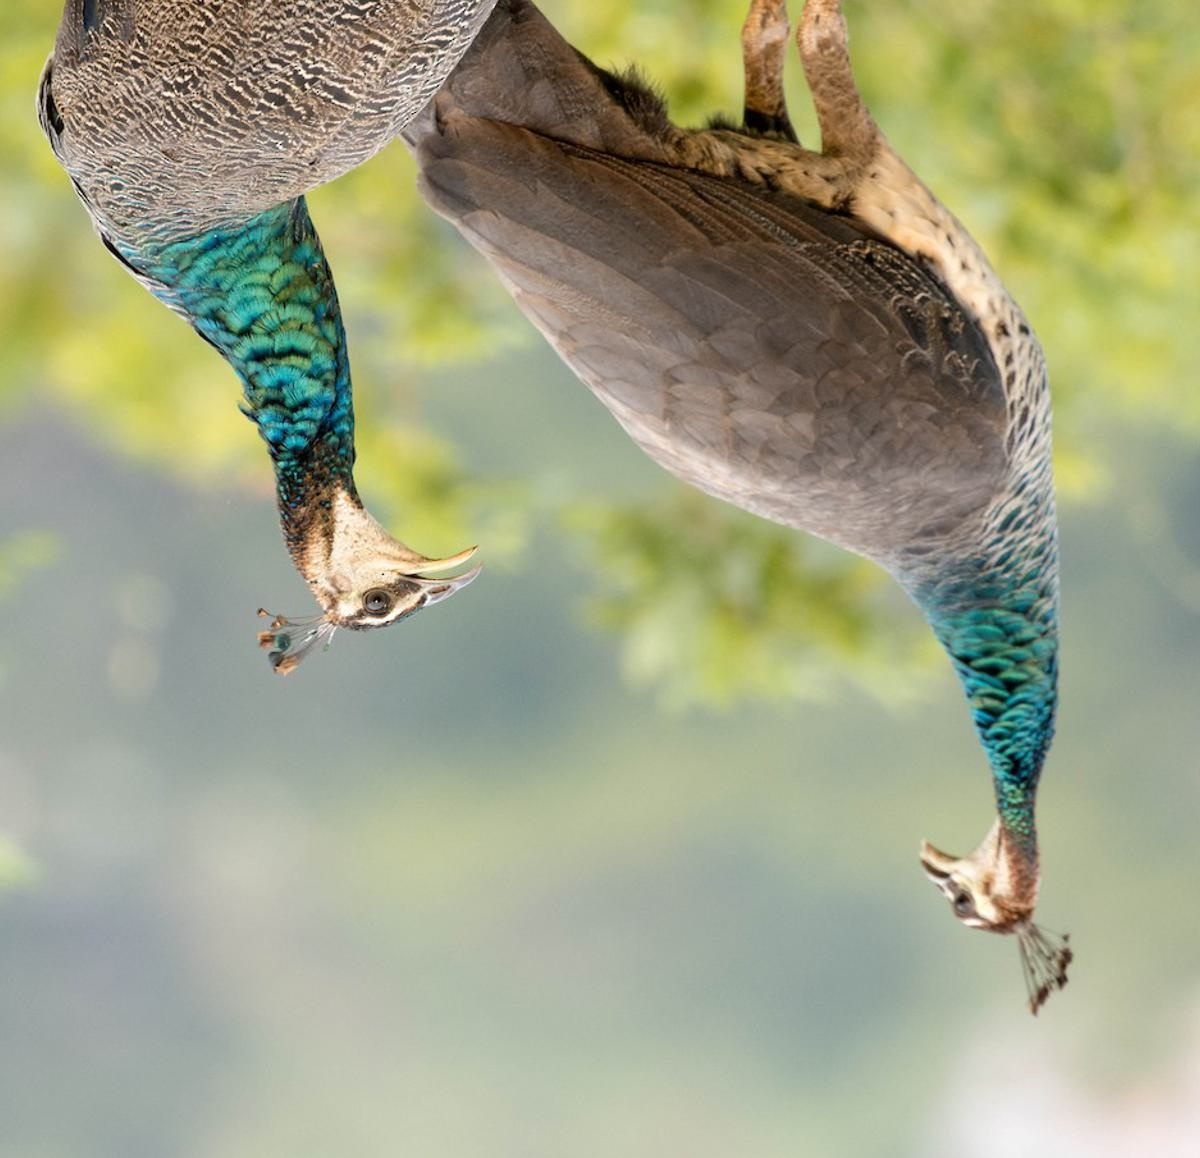peacock: (538, 12, 1152, 1033), (61, 1, 487, 730)
